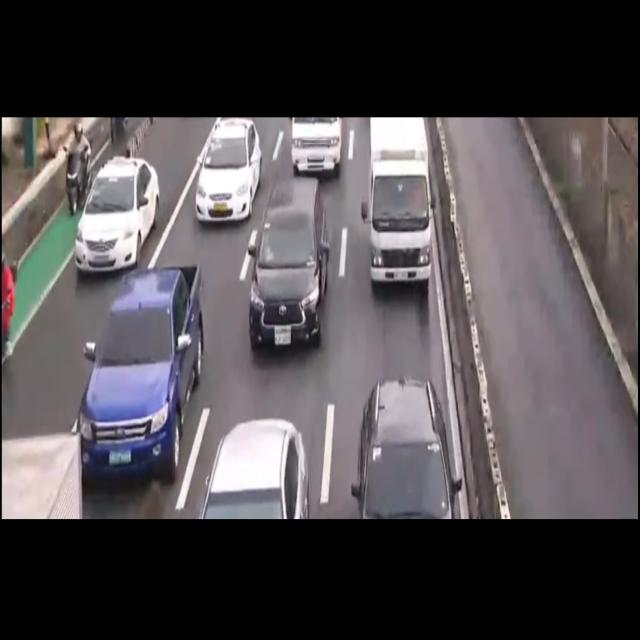Motorcycle: (64, 118, 88, 226)
SUV: (78, 258, 204, 478), (351, 372, 462, 521), (243, 178, 330, 344)
Sedan: (194, 418, 312, 516), (73, 152, 158, 272), (193, 120, 265, 225)
Truck: (363, 116, 435, 299)
